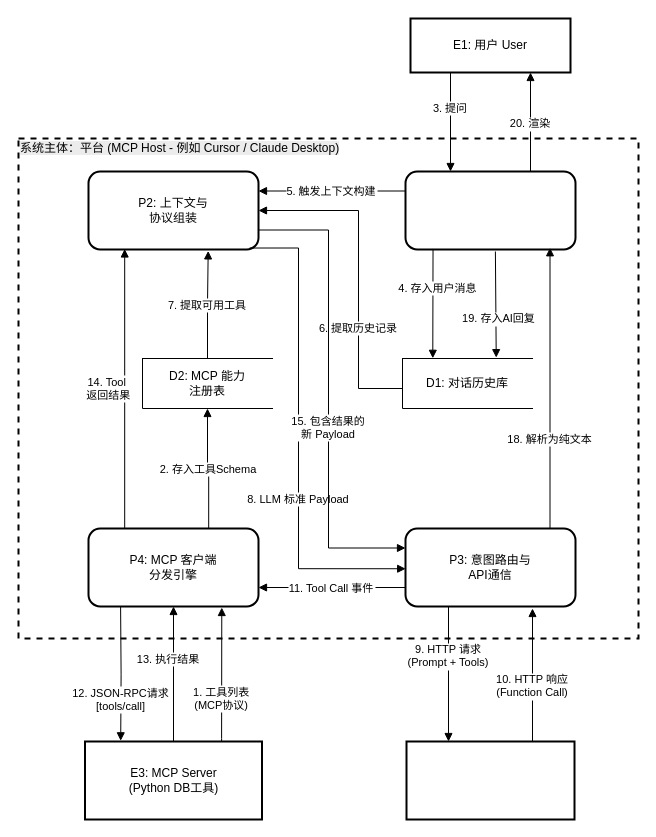
Some shapes in this 656 by 837 pixel diagram are drawn without their labels. Here are the shapes that lost their labels. From the top down, the centre of each, then its label:
At point 490,210: "P1: UI与 会话管理".
At point 490,780: "E2: 大模型 LLM (Opus/R1)".
